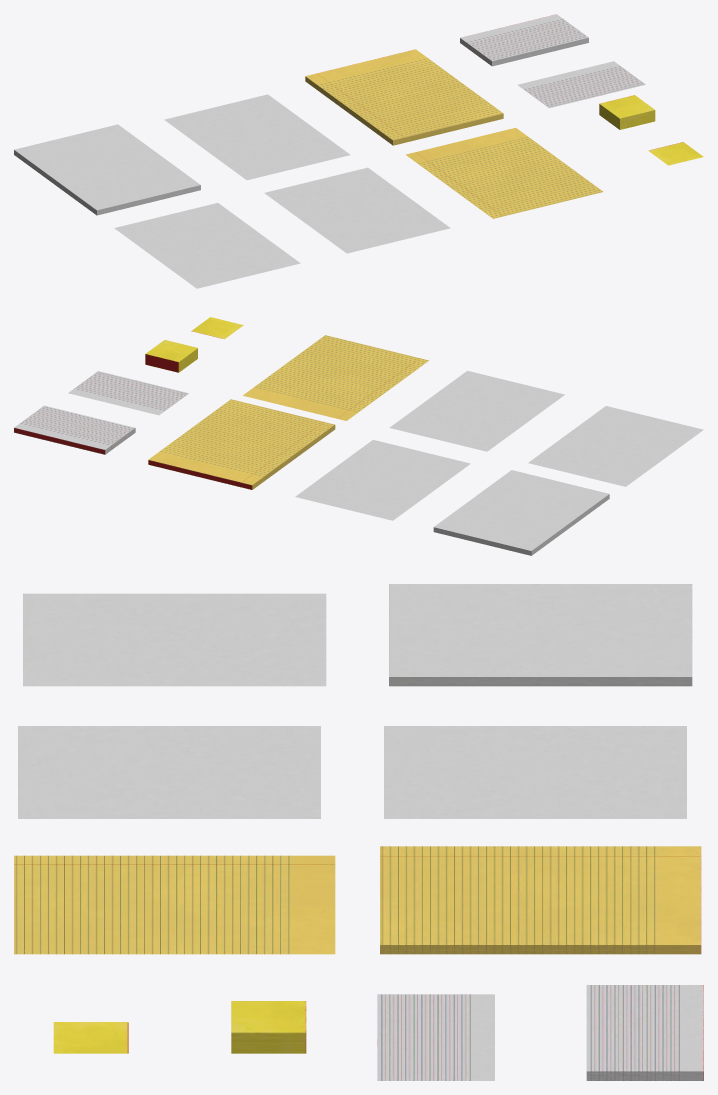
The model's file is office_notepads.glb.
3 views of the same model, one above another, from view 1: azimuth 30°, elevation 25°; view 2: azimuth 150°, elevation 25°; view 3: azimuth 270°, elevation 25° (orthographic). The views are drawn at different scales.
Parts seen in each view (by area): view 1: office_notepads_yellow_pad, office_notepads_yellow_sheet, office_notepads_a4_stack, office_notepads_a4_a, office_notepads_a4_b, office_notepads_a4_c, office_notepads_note_stack, office_notepads_note_sheet, office_notepads_sticky_stack, office_notepads_sticky_sheet; view 2: office_notepads_yellow_pad, office_notepads_yellow_sheet, office_notepads_a4_stack, office_notepads_a4_b, office_notepads_a4_c, office_notepads_a4_a, office_notepads_note_stack, office_notepads_note_sheet, office_notepads_sticky_stack, office_notepads_sticky_sheet; view 3: office_notepads_yellow_pad, office_notepads_yellow_sheet, office_notepads_a4_stack, office_notepads_a4_a, office_notepads_a4_b, office_notepads_a4_c, office_notepads_note_stack, office_notepads_note_sheet, office_notepads_sticky_stack, office_notepads_sticky_sheet.
Boxes of the visible parts, x1,y1,x2,y2 form: office_notepads_yellow_pad: (305, 49, 503, 145); office_notepads_yellow_sheet: (406, 127, 603, 218); office_notepads_a4_stack: (14, 124, 200, 215); office_notepads_a4_a: (114, 203, 300, 288); office_notepads_a4_b: (164, 94, 350, 180); office_notepads_a4_c: (264, 167, 450, 253); office_notepads_note_stack: (460, 14, 588, 66); office_notepads_note_sheet: (517, 61, 645, 108); office_notepads_sticky_stack: (599, 95, 655, 129); office_notepads_sticky_sheet: (648, 142, 703, 165); office_notepads_yellow_pad: (148, 399, 335, 489); office_notepads_yellow_sheet: (243, 335, 428, 420); office_notepads_a4_stack: (433, 470, 609, 555); office_notepads_a4_b: (295, 440, 470, 520); office_notepads_a4_c: (389, 371, 564, 451); office_notepads_a4_a: (528, 406, 703, 486); office_notepads_note_stack: (14, 405, 135, 454); office_notepads_note_sheet: (68, 371, 188, 415); office_notepads_sticky_stack: (145, 340, 197, 372); office_notepads_sticky_sheet: (191, 317, 243, 339); office_notepads_yellow_pad: (380, 846, 701, 954); office_notepads_yellow_sheet: (14, 855, 335, 954); office_notepads_a4_stack: (389, 584, 692, 686); office_notepads_a4_a: (23, 593, 326, 686); office_notepads_a4_b: (384, 726, 686, 818); office_notepads_a4_c: (18, 726, 320, 818); office_notepads_note_stack: (586, 985, 703, 1080); office_notepads_note_sheet: (377, 994, 494, 1080); office_notepads_sticky_stack: (231, 1001, 306, 1053); office_notepads_sticky_sheet: (53, 1022, 128, 1053).
Size of the model in its own units: 1.1 by 0.022 by 0.6598.
1 material, 1 textured.
